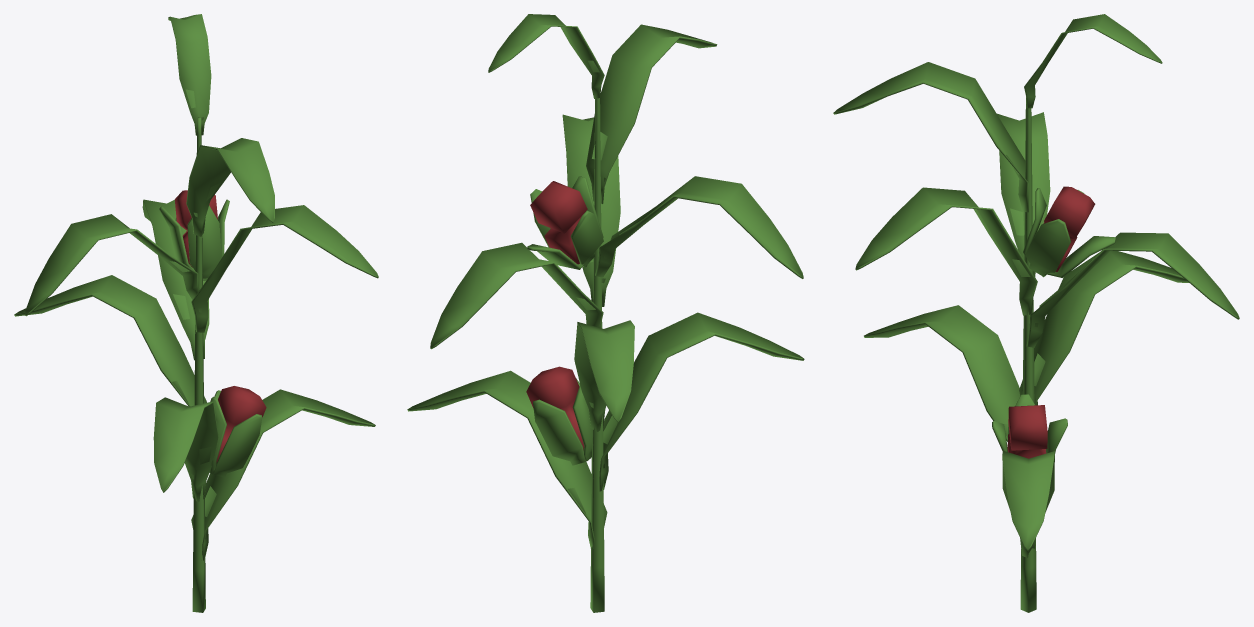
File: Corn 2.fbx
The picture shows the model from 3 angles, left to right: view 1: azimuth 30°, elevation 25°; view 2: azimuth 150°, elevation 25°; view 3: azimuth 270°, elevation 25°; orthographic projection. The views are drawn at different scales.
Parts seen in each view (by area): view 1: Cube.004, Cube.006, Cube.007, Cube.005, Cube.008, Cube.010, Cube.002, Cube.009, Cube.014, Cube.003, Cube.001; view 2: Cube.007, Cube.006, Cube.003, Cube.004, Cube.014, Cube.005, Cube.010, Cube.002, Cube.001, Cube.008, Cube.009; view 3: Cube.006, Cube.004, Cube.008, Cube.014, Cube.007, Cube.003, Cube.002, Cube.005, Cube.010, Cube.001, Cube.009.
Part boxes in pixels (bbox=[...]): Cube.004: bbox=[14, 275, 206, 406]; Cube.006: bbox=[153, 397, 218, 502]; Cube.007: bbox=[186, 138, 274, 236]; Cube.005: bbox=[25, 214, 199, 316]; Cube.008: bbox=[191, 205, 378, 332]; Cube.010: bbox=[209, 386, 266, 477]; Cube.002: bbox=[191, 389, 375, 560]; Cube.009: bbox=[168, 14, 211, 135]; Cube.014: bbox=[159, 190, 229, 280]; Cube.003: bbox=[142, 199, 209, 360]; Cube.001: bbox=[192, 117, 205, 612]; Cube.007: bbox=[586, 24, 717, 203]; Cube.006: bbox=[599, 312, 804, 491]; Cube.003: bbox=[430, 242, 603, 349]; Cube.004: bbox=[574, 320, 634, 431]; Cube.014: bbox=[527, 176, 603, 269]; Cube.005: bbox=[595, 176, 803, 278]; Cube.010: bbox=[526, 366, 592, 465]; Cube.002: bbox=[407, 370, 607, 548]; Cube.001: bbox=[590, 98, 604, 612]; Cube.008: bbox=[562, 114, 620, 306]; Cube.009: bbox=[488, 14, 604, 98]; Cube.006: bbox=[864, 305, 1020, 442]; Cube.004: bbox=[1019, 250, 1188, 405]; Cube.008: bbox=[855, 187, 1037, 315]; Cube.014: bbox=[1023, 186, 1115, 277]; Cube.007: bbox=[833, 62, 1028, 212]; Cube.003: bbox=[1026, 232, 1239, 347]; Cube.002: bbox=[1002, 450, 1054, 557]; Cube.005: bbox=[997, 112, 1050, 276]; Cube.010: bbox=[992, 394, 1067, 458]; Cube.001: bbox=[1020, 98, 1036, 612]; Cube.009: bbox=[1024, 14, 1162, 108].
Size of the model in its own units: 161 by 242 by 149.
